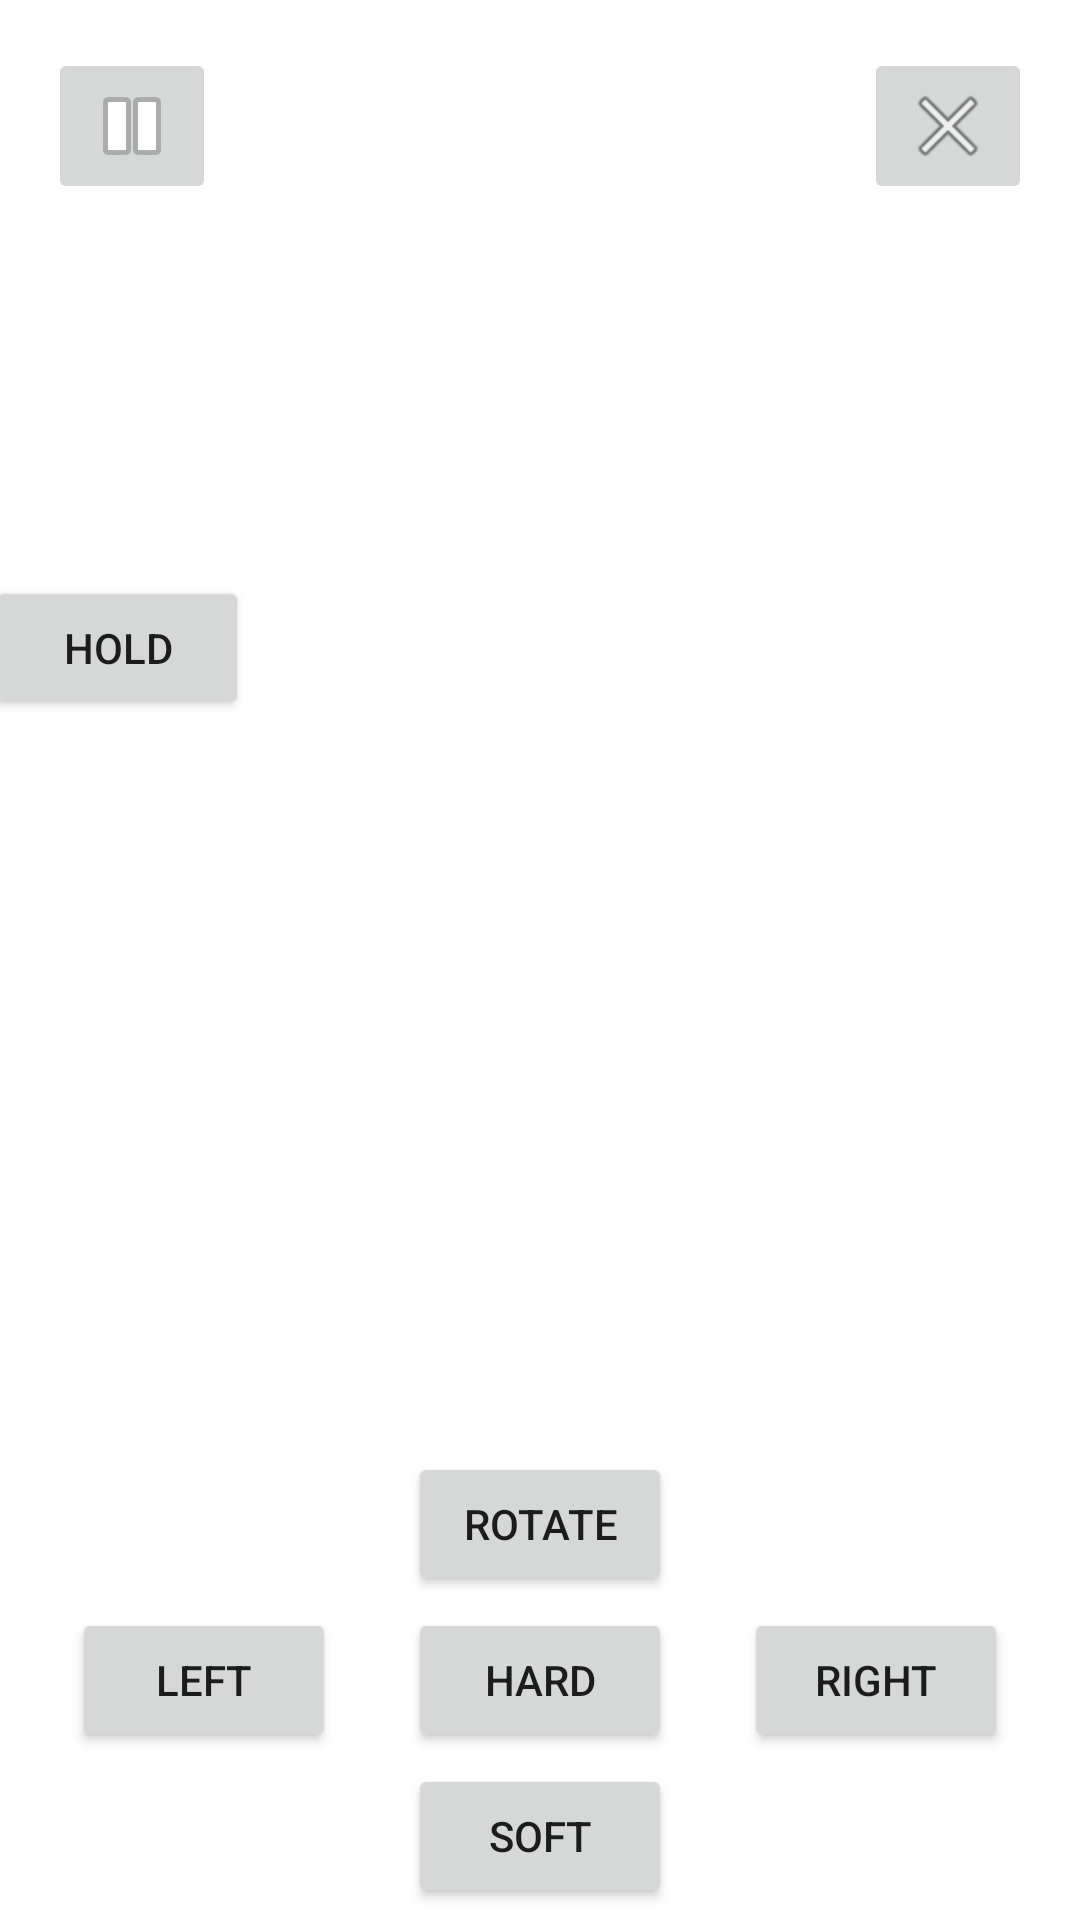

Locate icon controls on the screen. Image size 1080×1920, boxes as (x1, y1, x2, y2).
close clear cancel: (876, 66, 1020, 186)
pause: (60, 66, 204, 186)
